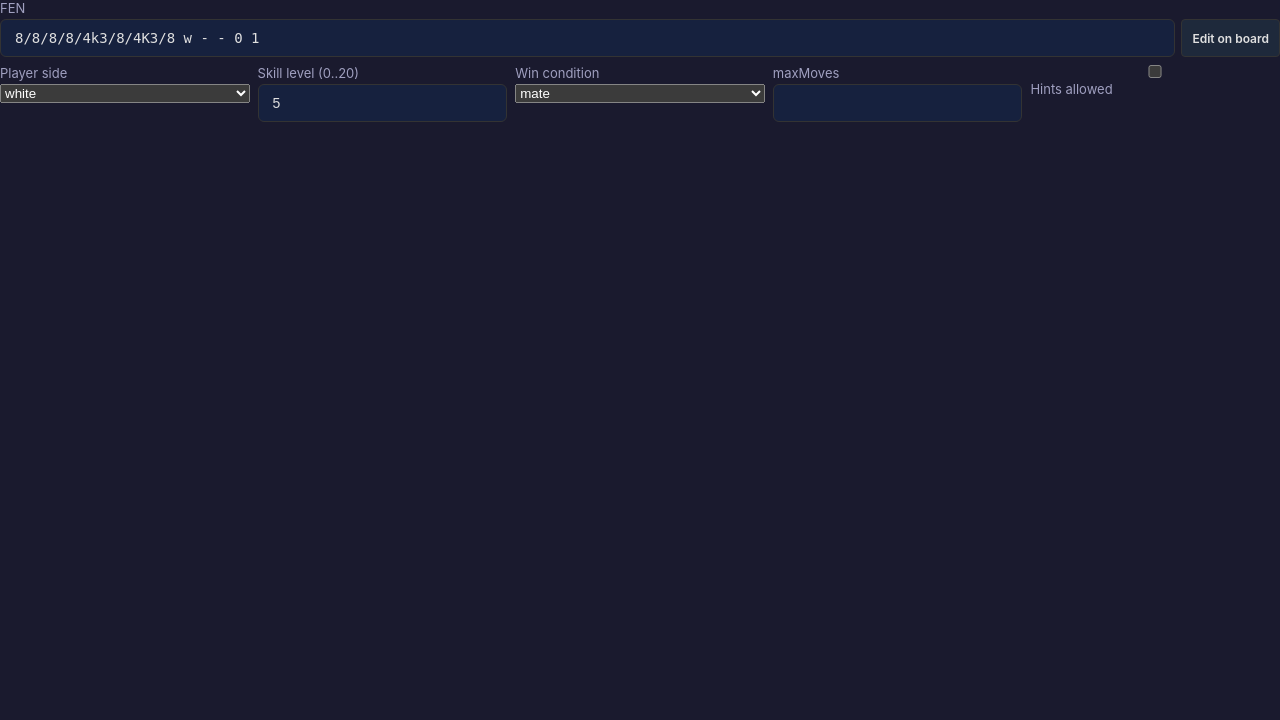
Test case: <EndgameDrillFields> board editor (KS-1906) › Apply из модалки пишет новый FEN в payload и закрывает модалку
The width and height of the screenshot is (1280, 720).
Click the button with test id "editor-endgame-edit-board" at (1231, 38), box [1181,19,1279,57]
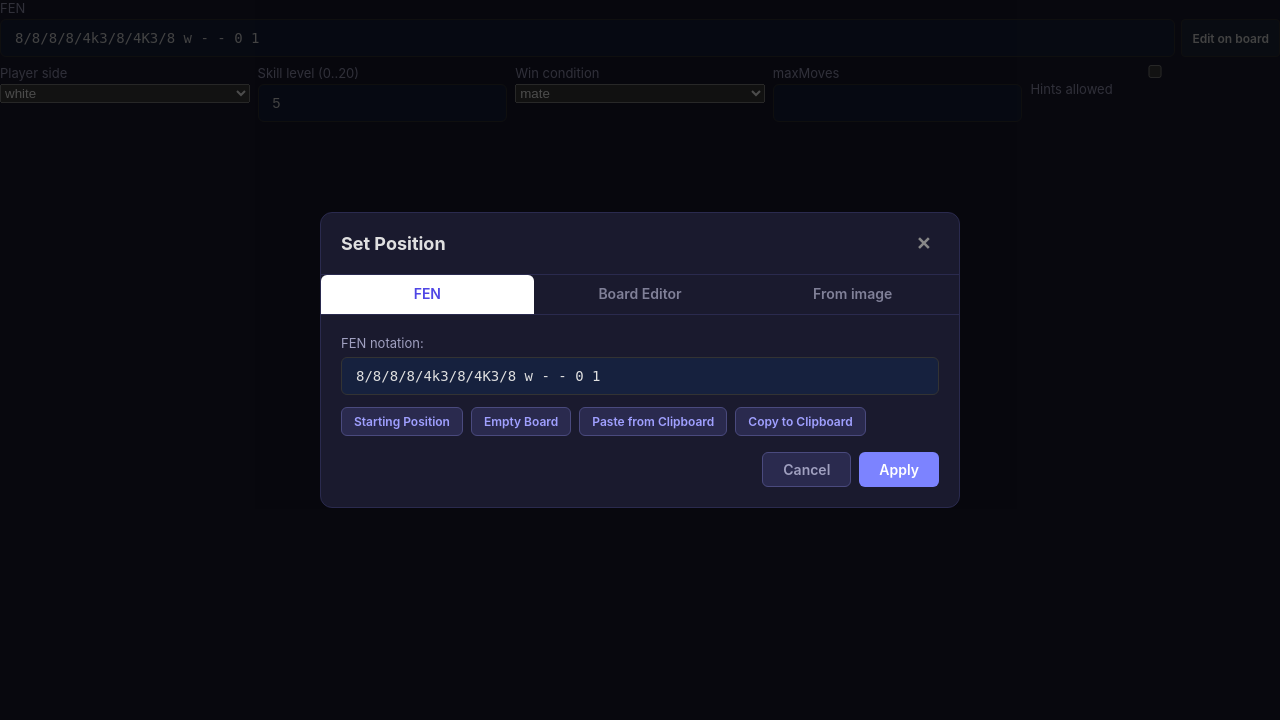
Replace the text in the field showing "8/8/8/8/4k3/8/4K3/8 w - - 0 1" with "4k3/8/8/8/8/8/4P3/4K3 w - - 0 1" at (640, 376), box [341,357,939,395]
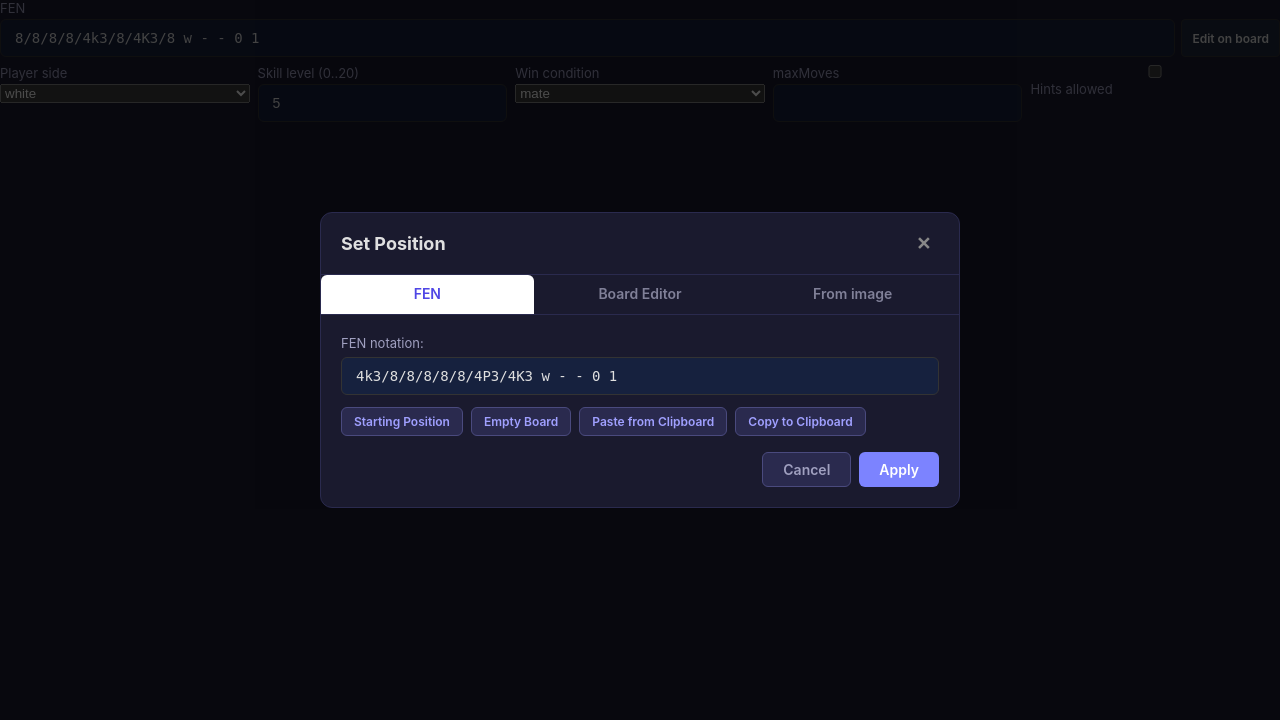
Click the button "Apply" at (899, 470), box [859,452,939,487]
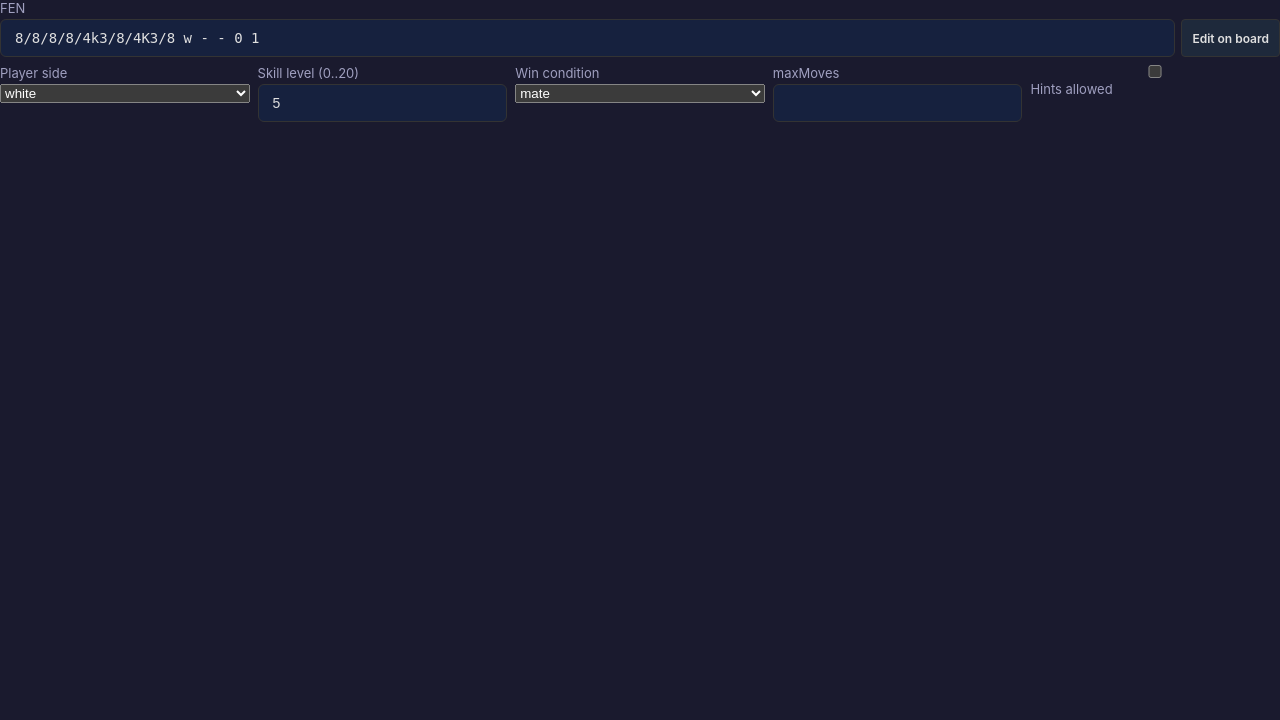
Check: the heading "Set Position" is gone
